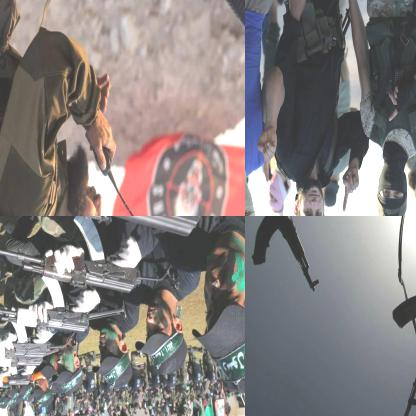rifle: (0, 216, 181, 296), (0, 269, 130, 333), (245, 216, 321, 294), (0, 328, 67, 358)
